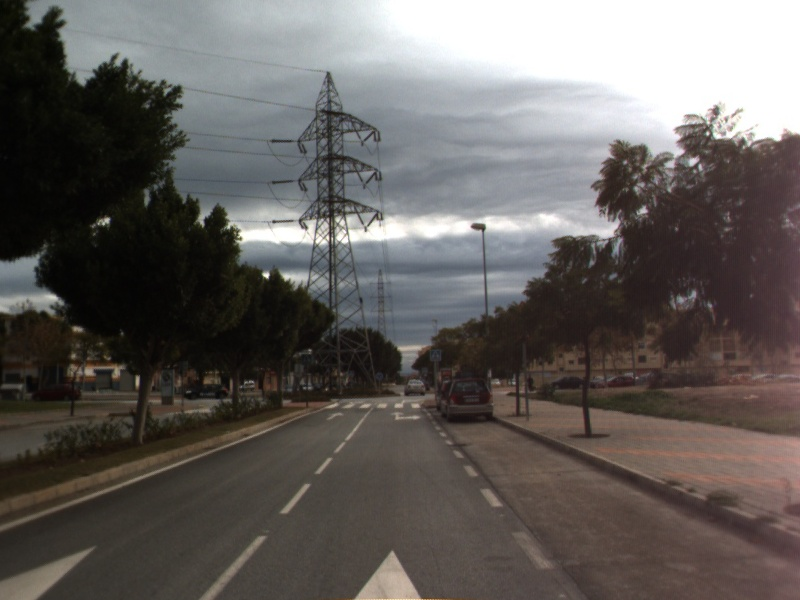STRAIGHT: (323, 410, 346, 423)
STRAIGHT_RIGHT: (388, 410, 424, 422)
